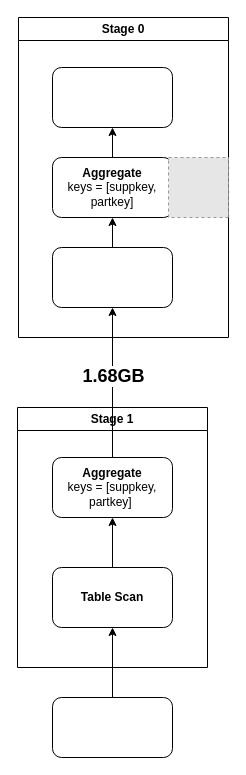
Image size: 246x775. Some labels were removed from this diagram. Grey dashed boxes stand in for pictures. Here are the shapes that lost their labels. From the top down, the centre of each, then its label:
[112,97]: Output
[112,277]: Local Exchange
[112,727]: PartSupp
